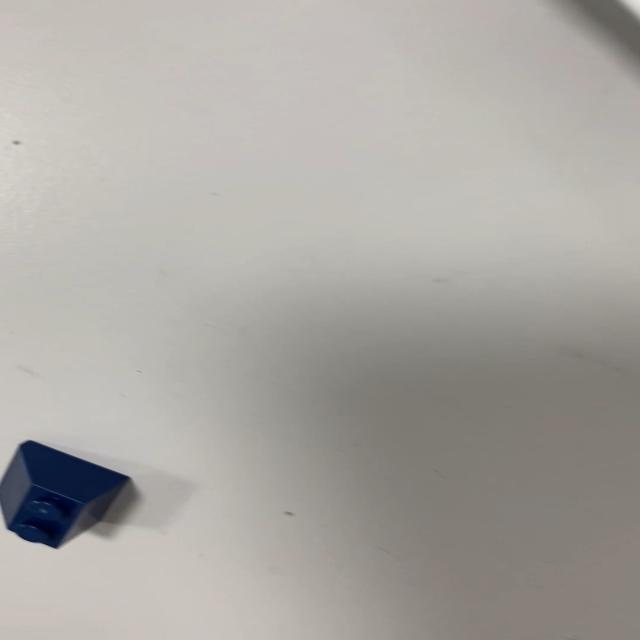P2x2x1: (1, 439, 131, 549)
